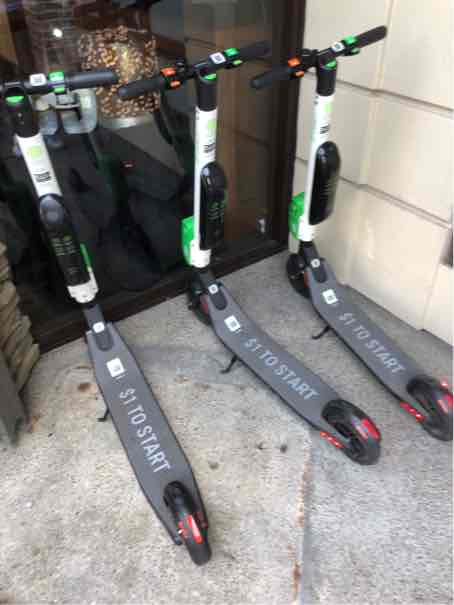scooter: (119, 42, 385, 484), (6, 64, 222, 576), (257, 25, 448, 441)
